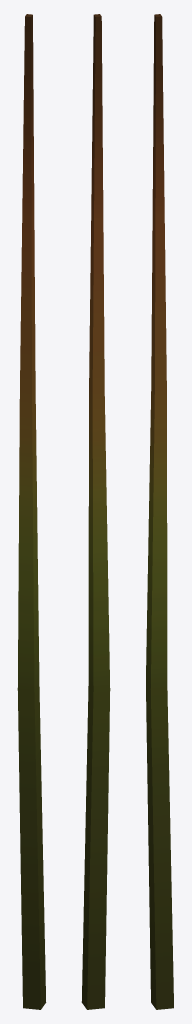
File: Seedling_01.fbx
3 views of the same model, side by side, from view 1: azimuth 30°, elevation 25°; view 2: azimuth 150°, elevation 25°; view 3: azimuth 330°, elevation 25° (orthographic).
Visible parts, largest first — view 1: Seedling_01; view 2: Seedling_01; view 3: Seedling_01.
Boxes of the visible parts, <box> form: Seedling_01: <box>17,14,46,1009</box>; Seedling_01: <box>81,14,110,1009</box>; Seedling_01: <box>146,14,173,1009</box>.
Size of the model in its own units: 1.02 by 33.88 by 0.775.
